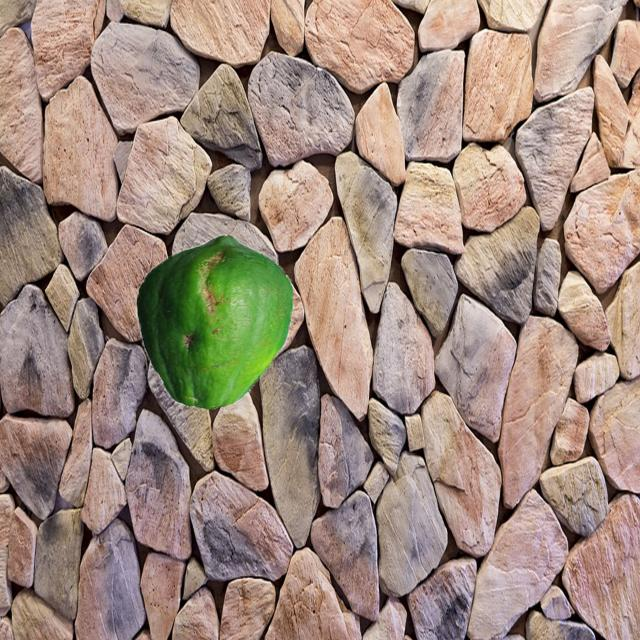Pepaya unrippen: (130, 228, 291, 408)
